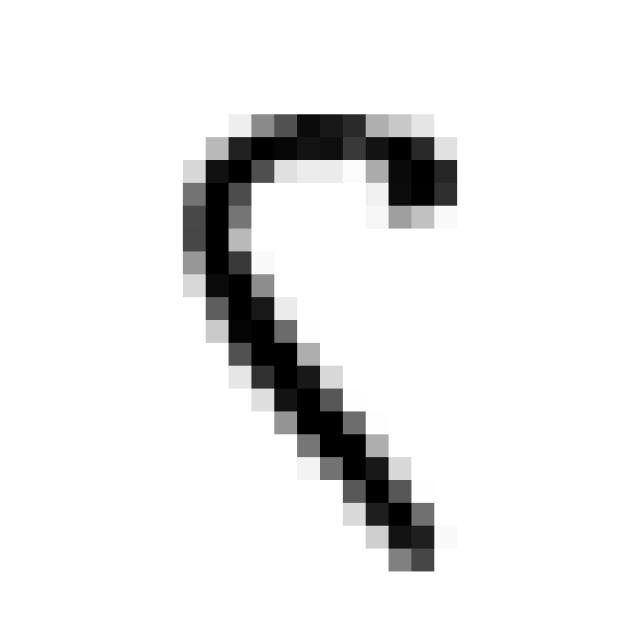2 -two-: (160, 94, 485, 580)
